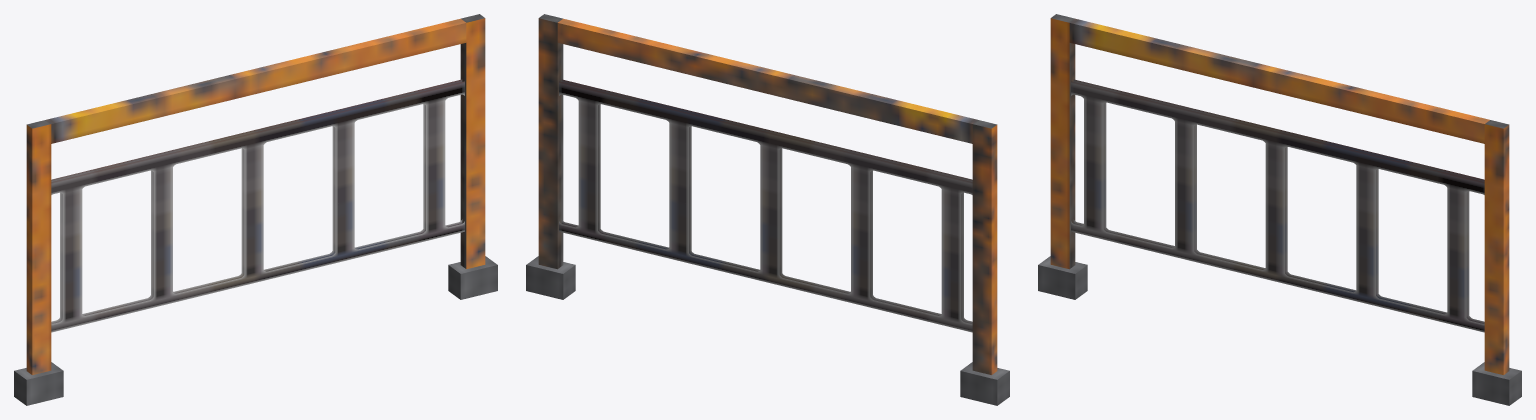
Rendered from MO_METAL_FENCE_01.fbx.
The picture shows the model from 3 angles, left to right: view 1: azimuth 30°, elevation 25°; view 2: azimuth 150°, elevation 25°; view 3: azimuth 330°, elevation 25°; orthographic projection.
Visible parts, largest first — view 1: MO_METAL_FENCE_01; view 2: MO_METAL_FENCE_01; view 3: MO_METAL_FENCE_01.
Boxes of the visible parts, left/top/right/bottom form: MO_METAL_FENCE_01: left=14, top=14, right=497, bottom=405; MO_METAL_FENCE_01: left=526, top=14, right=1009, bottom=405; MO_METAL_FENCE_01: left=1038, top=14, right=1521, bottom=405.
Size of the model in its own units: 1.9 by 1.05 by 0.0872.
